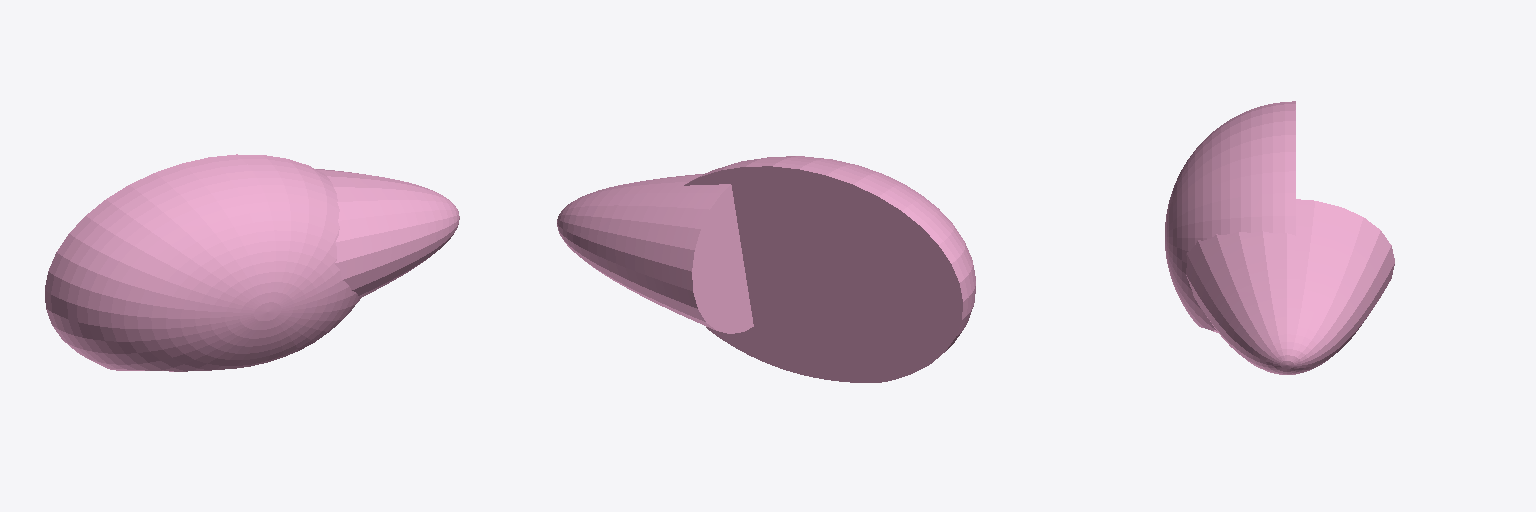
The model's file is raven body sketch.obj.
3 renders of one model, left to right at view 1: azimuth 30°, elevation 25°; view 2: azimuth 150°, elevation 25°; view 3: azimuth 270°, elevation 25°, orthographic.
Parts seen in each view (by area): view 1: obj_0; view 2: obj_0; view 3: obj_0.
Part boxes in pixels (bbox=[...]): obj_0: bbox=[45, 154, 459, 371]; obj_0: bbox=[557, 156, 975, 382]; obj_0: bbox=[1165, 101, 1394, 374].
Size of the model in its own units: 289 by 139 by 142.